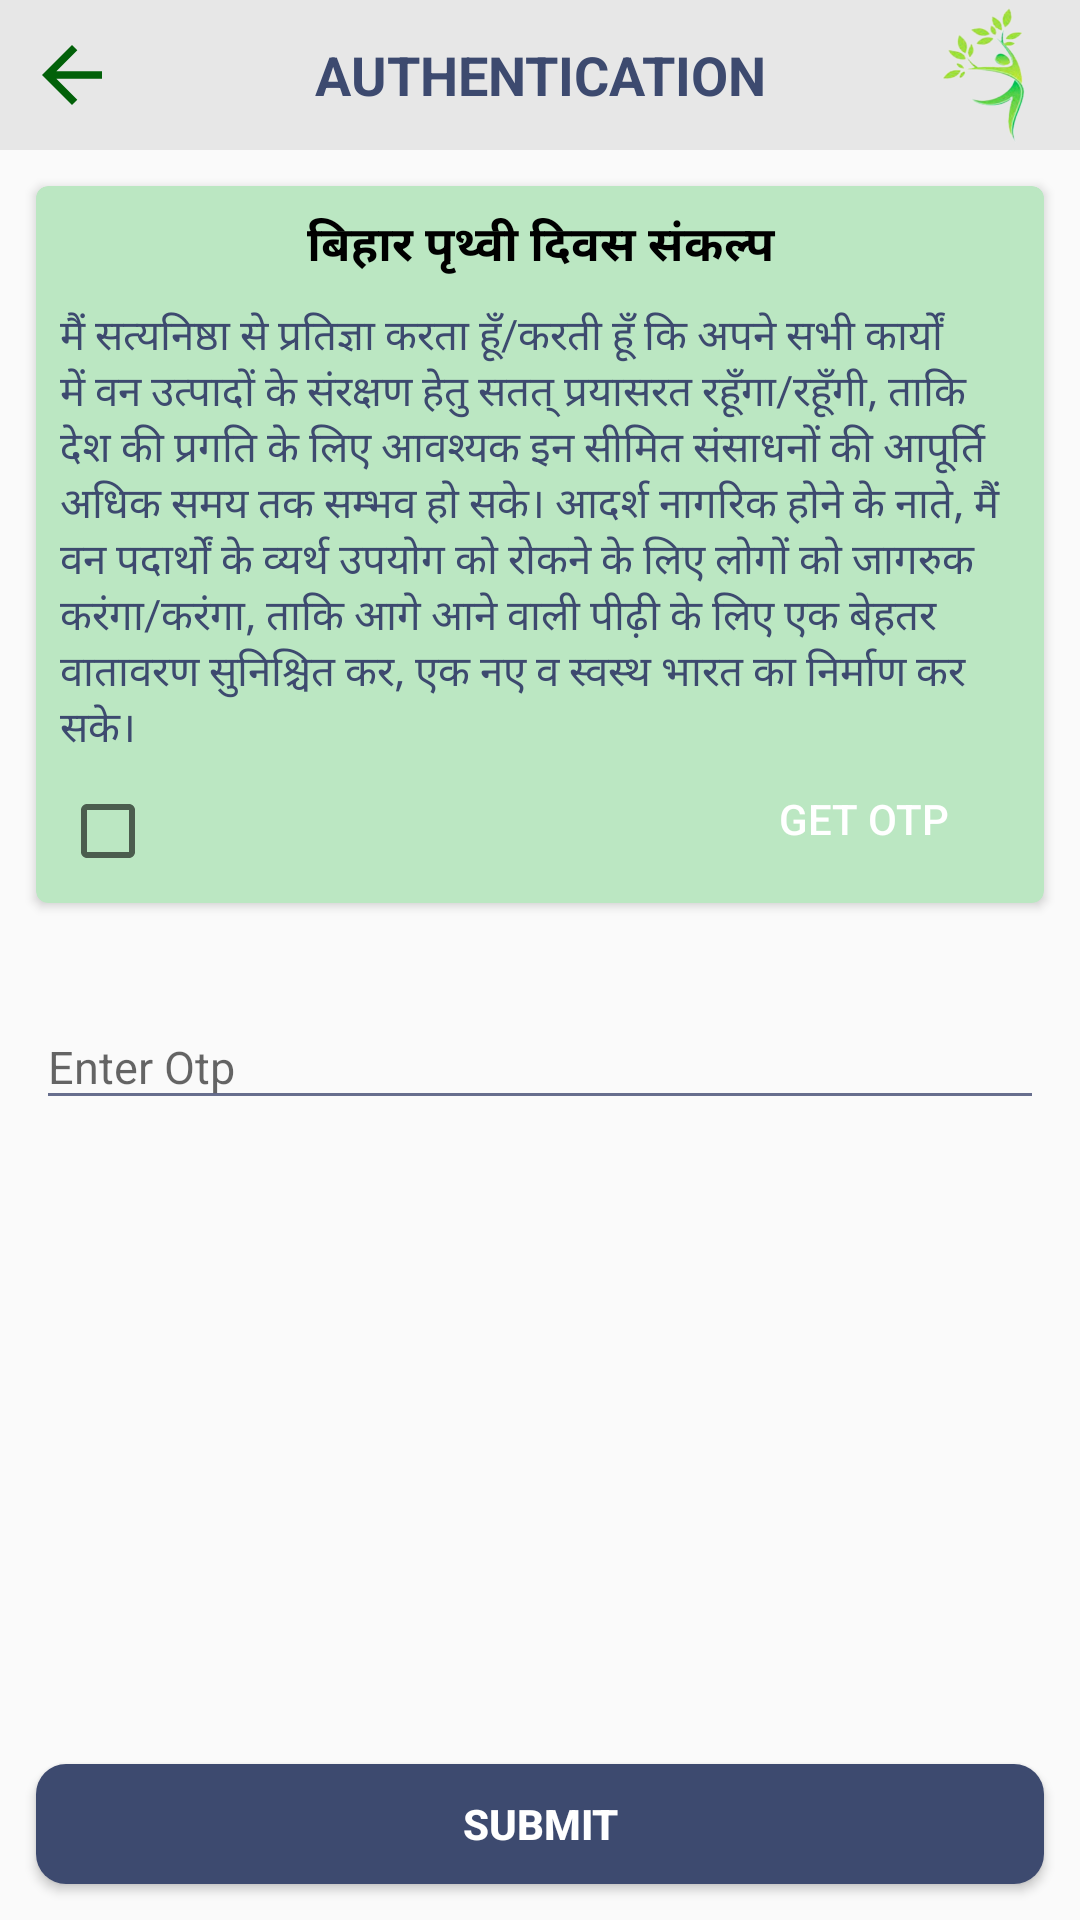

Named icons in this screenshot (1080*1920) and their bounding boxes, bbox=[x1, y1, x2, y2]:
arrow back: bbox=[42, 45, 102, 105]
